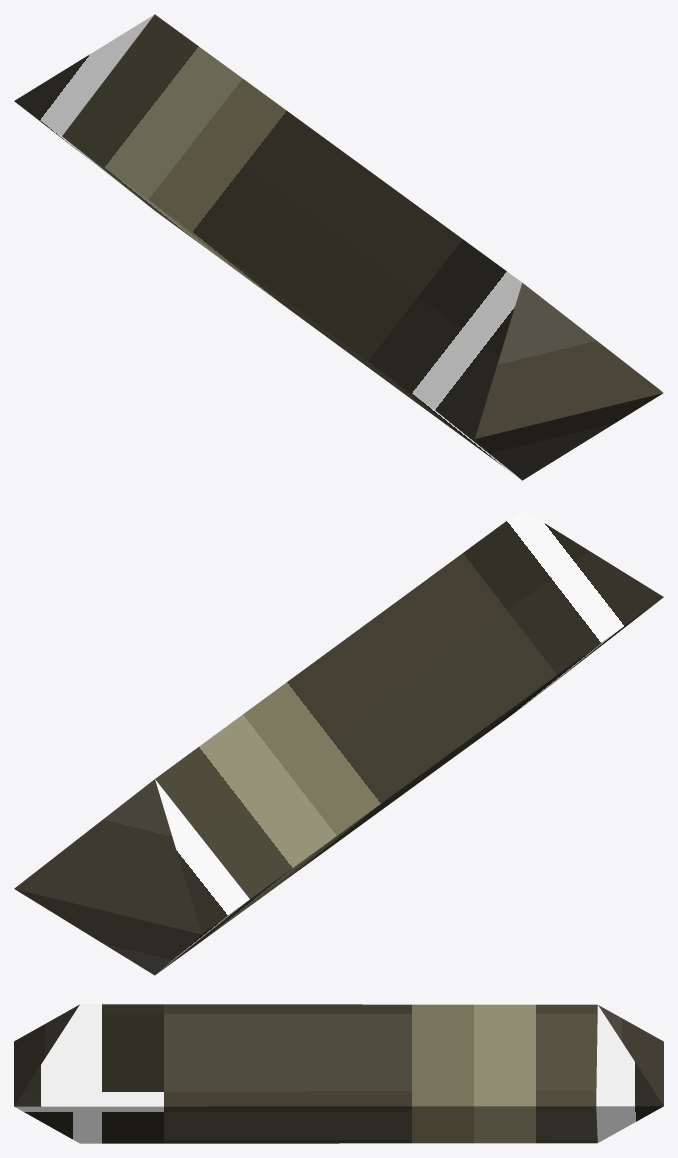
The model's file is beech_thin_trunk_horizontal.obj.
3 renders of one model, top to bottom at view 1: azimuth 30°, elevation 25°; view 2: azimuth 150°, elevation 25°; view 3: azimuth 270°, elevation 25°, orthographic. The views are drawn at different scales.
Visible parts, largest first — view 1: cube_selection_selection; view 2: cube_selection_selection; view 3: cube_selection_selection.
Boxes of the visible parts, box(x1,y1,x2,y2) form: cube_selection_selection: box(14, 14, 663, 480); cube_selection_selection: box(14, 509, 663, 975); cube_selection_selection: box(14, 1004, 663, 1143).
Bounding box in the file's own units: 0.3107 × 0.3104 × 1.31.
